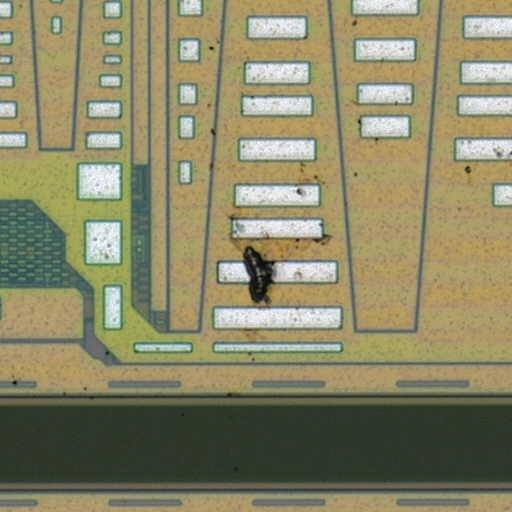PO CONTAMINATION: (6, 10, 512, 476)
